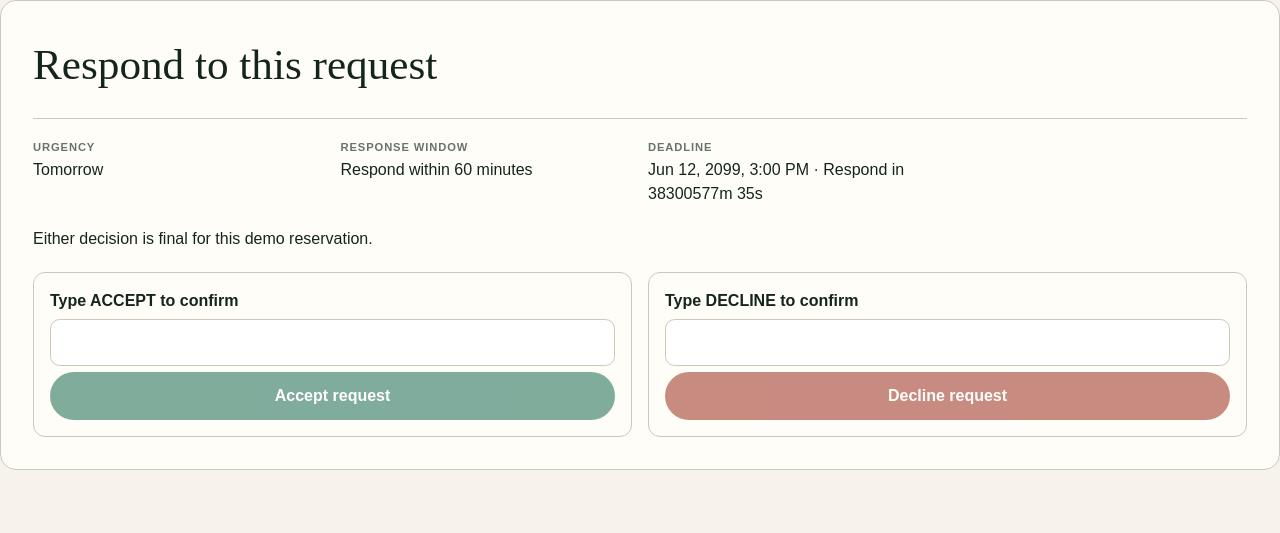
Scenario: ProviderDecisionPanel › keeps non-conflict failures retryable
Type "ACCEPT" into the field labelled "Type ACCEPT to confirm Accept request". click: (332, 342)
box: x1=50 y1=319 x2=615 y2=366
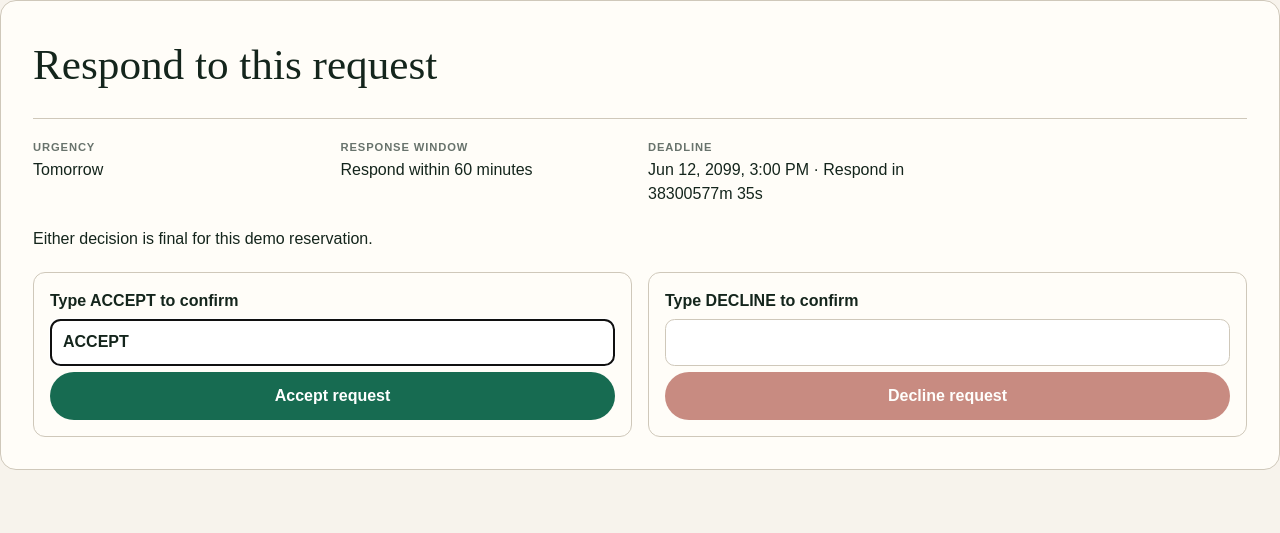
Click the button "Accept request". click: (332, 396)
box: x1=50 y1=372 x2=615 y2=420
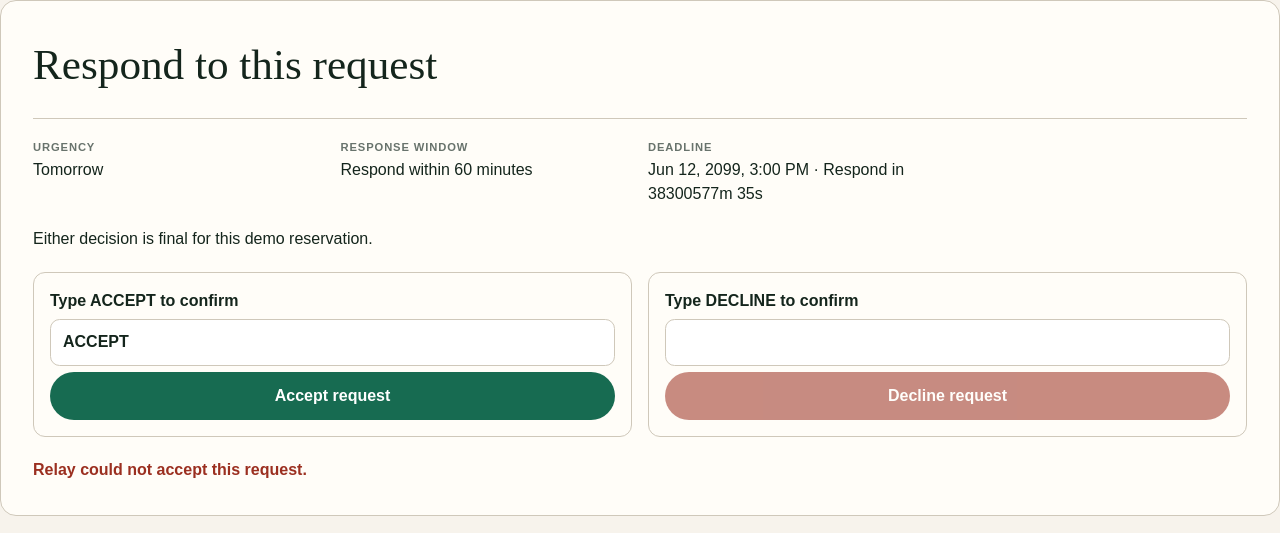
Now the button "Accept request" is enabled, box x1=50 y1=372 x2=615 y2=420
Now the message reads "Relay could not accept this request.", box x1=33 y1=461 x2=307 y2=478
